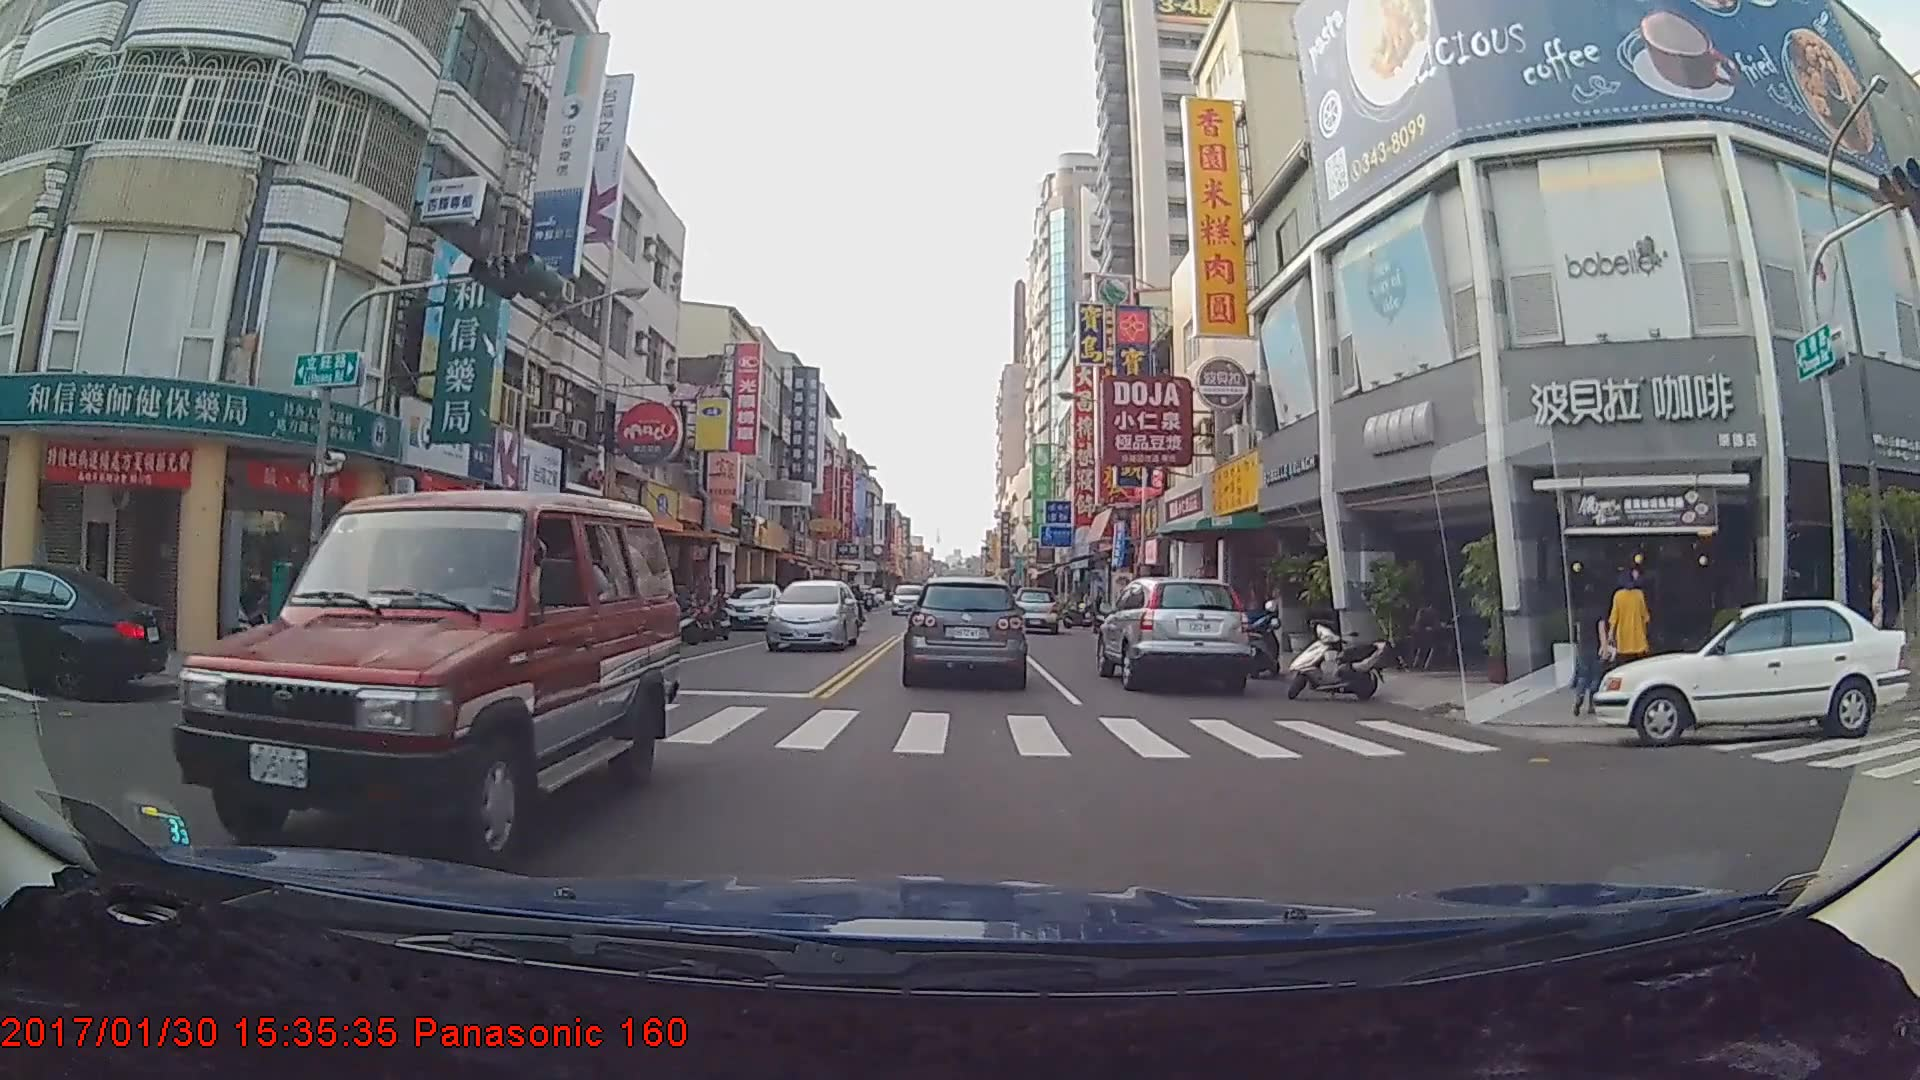pedestrian: (1569, 583, 1615, 720), (1608, 568, 1654, 689)
vehicle: (170, 489, 683, 871), (1591, 595, 1907, 748), (0, 559, 168, 697), (1097, 573, 1252, 692), (904, 574, 1024, 685), (764, 578, 861, 652), (722, 581, 782, 630), (1009, 586, 1059, 633), (890, 582, 926, 614)
